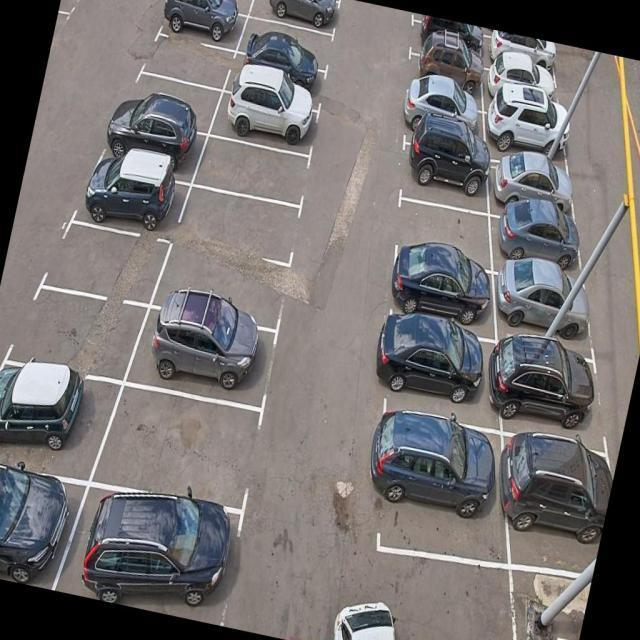car: (62, 480, 246, 626), (365, 407, 503, 572), (500, 427, 620, 592), (125, 293, 282, 412), (0, 354, 113, 480), (368, 314, 498, 412), (380, 238, 499, 325), (0, 458, 75, 590), (498, 339, 600, 436), (492, 258, 596, 346), (72, 157, 187, 236), (213, 86, 325, 155), (394, 134, 495, 210), (104, 108, 210, 176), (492, 200, 586, 272), (486, 148, 580, 214), (479, 96, 572, 156), (398, 81, 488, 142), (230, 48, 334, 98), (404, 42, 488, 97), (402, 14, 489, 65), (482, 62, 562, 116), (155, 0, 244, 48), (482, 34, 563, 77), (252, 0, 348, 35), (57, 0, 92, 22)
free: (95, 378, 258, 508), (170, 174, 304, 276), (17, 280, 145, 382), (155, 238, 293, 322), (45, 215, 169, 308), (193, 124, 318, 203), (134, 28, 234, 94), (126, 72, 215, 132), (236, 17, 336, 66), (168, 0, 258, 19)
